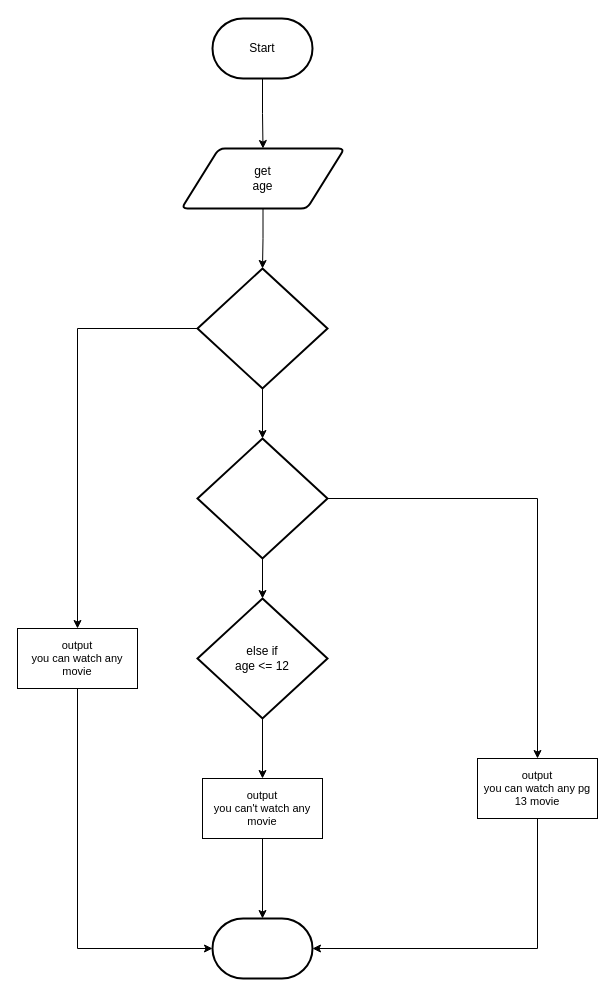
Some shapes in this 615 by 996 pixel diagram are drawn without their labels. The centre of each missing label's shape, as x and y in pixels:
else if age >= 13: the point at 262,498
if age >= 18: the point at 262,328
Stop: the point at 262,948
